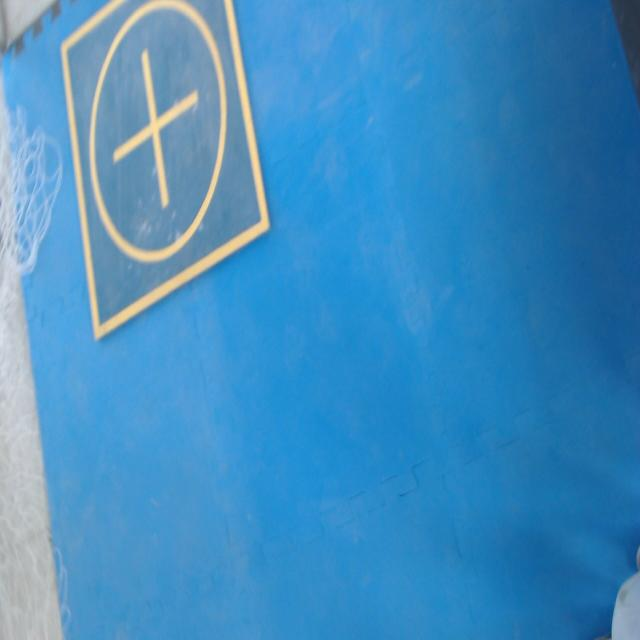base_pouso: (61, 0, 270, 343)
